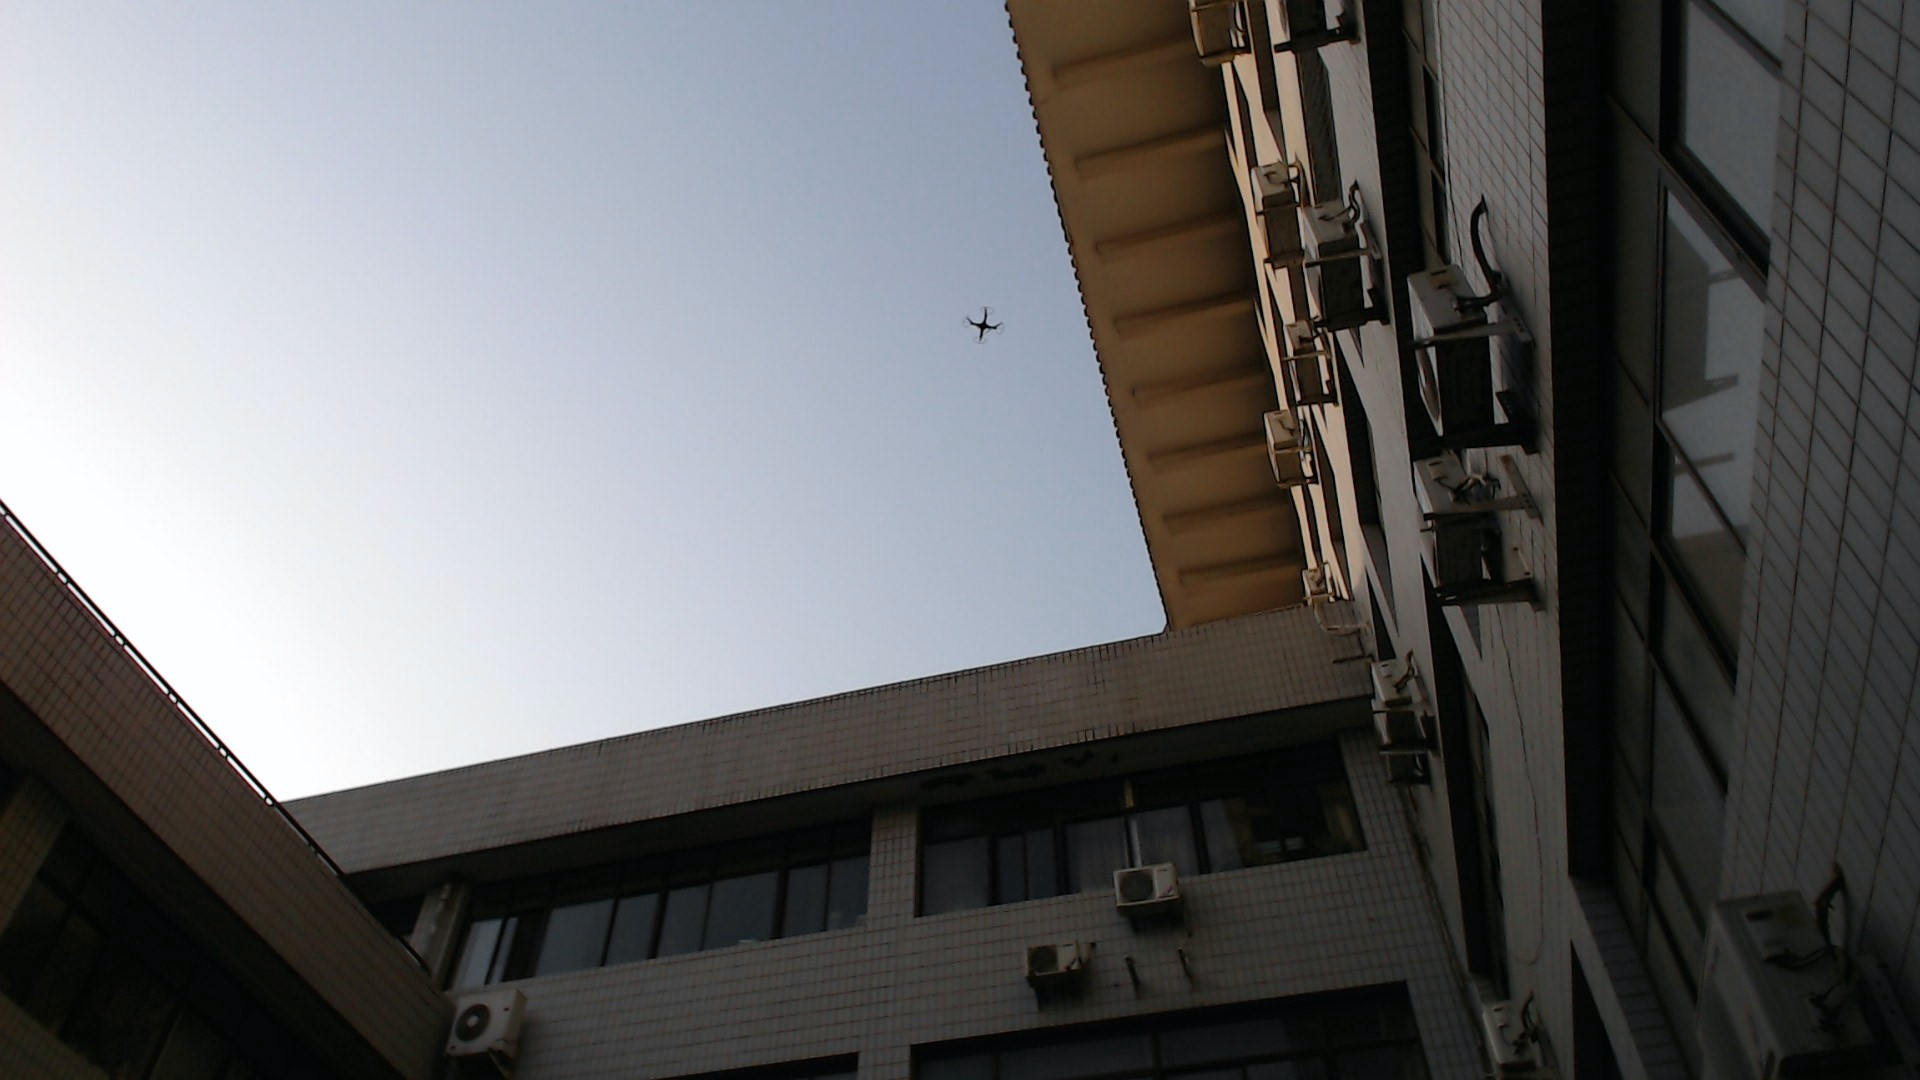drone: (948, 291, 1030, 353)
